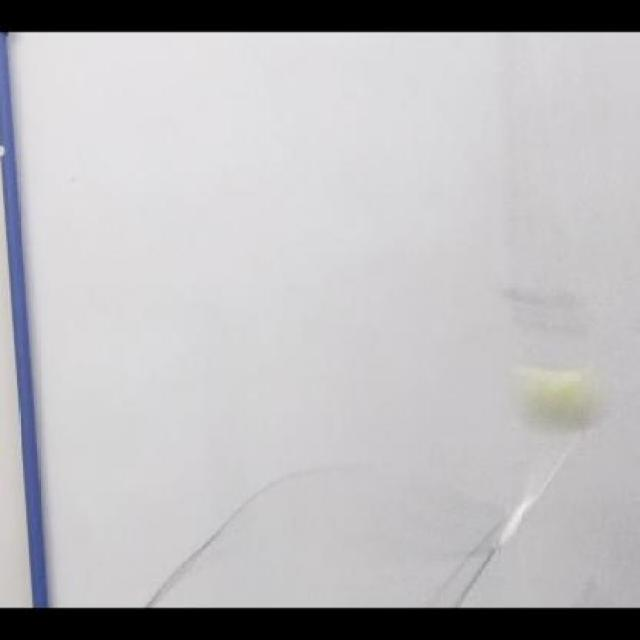baseball: (515, 359, 597, 433)
